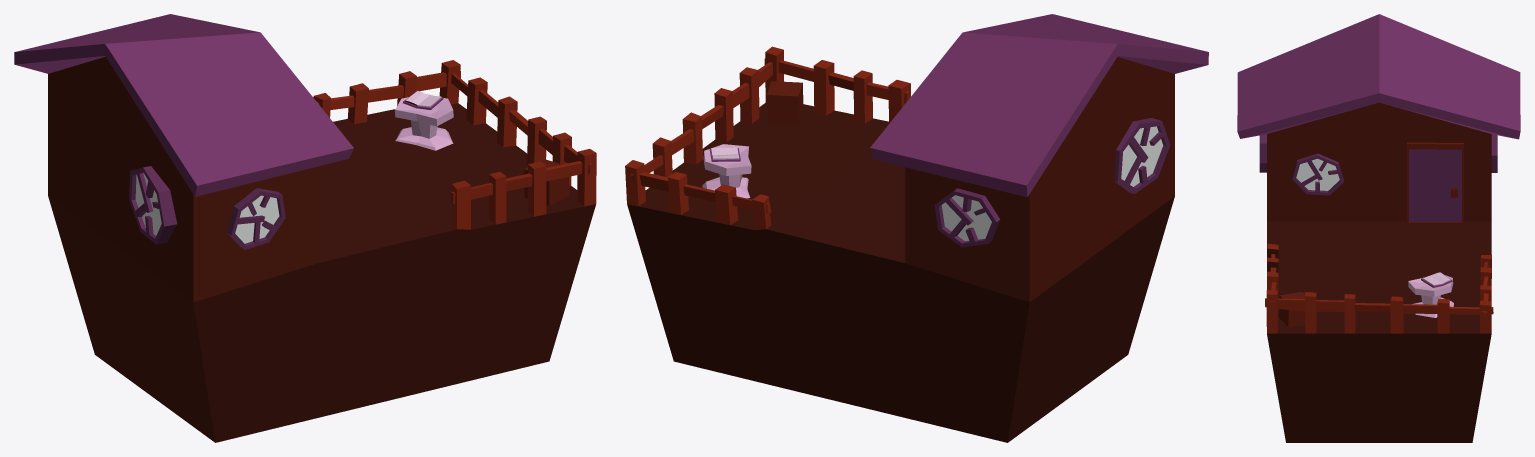
File: enchanter.glb
3 renders of one model, left to right at view 1: azimuth 30°, elevation 25°; view 2: azimuth 150°, elevation 25°; view 3: azimuth 270°, elevation 25°, orthographic. The views are drawn at different scales.
Parts seen in each view (by area): view 1: Cube.003; view 2: Cube.003; view 3: Cube.003.
Boxes of the visible parts, box(x1,y1,x2,y2) form: Cube.003: box(14, 14, 596, 442); Cube.003: box(625, 14, 1208, 442); Cube.003: box(1237, 14, 1520, 442).
Size of the model in its own units: 16.8 by 13.94 by 12.59.
1 material, 1 textured.
